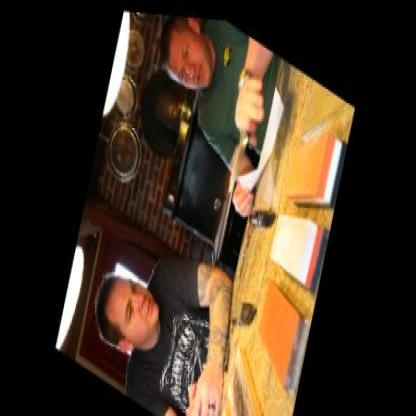knife: (213, 75, 266, 209)
